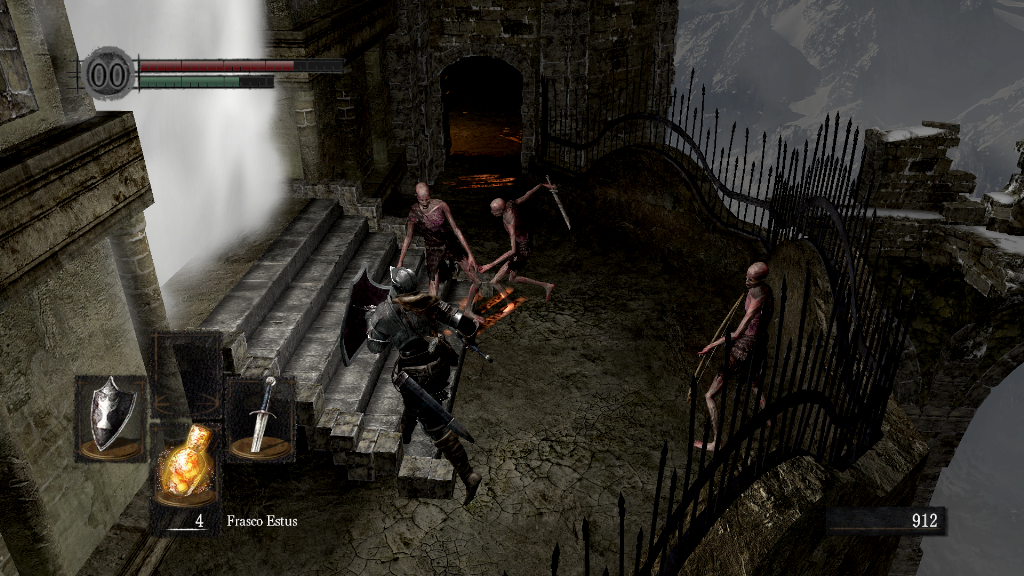health: (138, 58, 343, 71)
hollow: (690, 253, 770, 451), (392, 178, 487, 332), (481, 176, 555, 303)
humanity: (80, 45, 136, 102)
player: (339, 264, 493, 508)
souls: (825, 506, 945, 536)
stamina: (138, 74, 274, 88)
